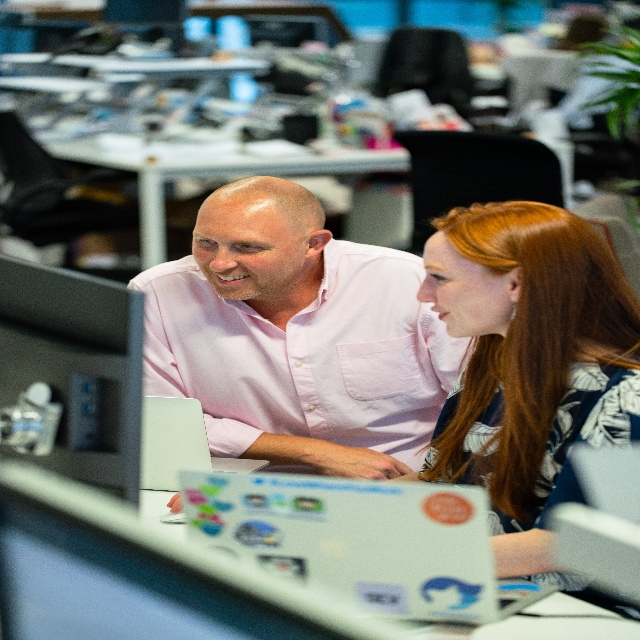Sin_guantes: (323, 439, 415, 481)
